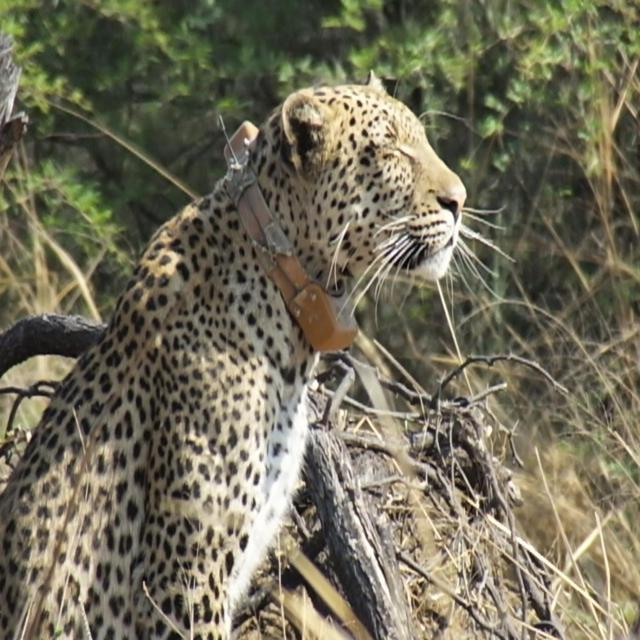Leopard: (4, 45, 488, 640)
